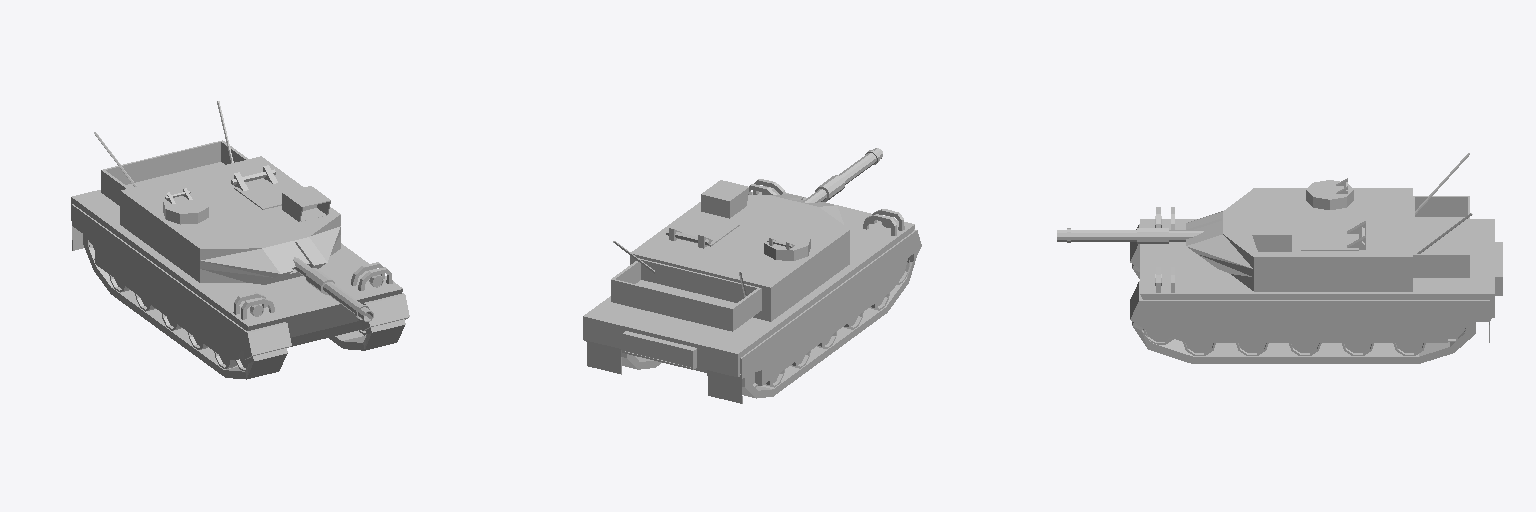
File: Super_Tank.obj
3 renders of one model, left to right at view 1: azimuth 30°, elevation 25°; view 2: azimuth 150°, elevation 25°; view 3: azimuth 270°, elevation 25°, orthographic.
Visible parts, largest first — view 1: Super_Tank_Cube.009; view 2: Super_Tank_Cube.009; view 3: Super_Tank_Cube.009.
Part boxes in pixels (left/top/right/bottom): Super_Tank_Cube.009: left=71, top=101, right=409, bottom=379; Super_Tank_Cube.009: left=583, top=148, right=921, bottom=403; Super_Tank_Cube.009: left=1057, top=153, right=1502, bottom=363.
Size of the model in its own units: 1.87 by 1.61 by 4.56.